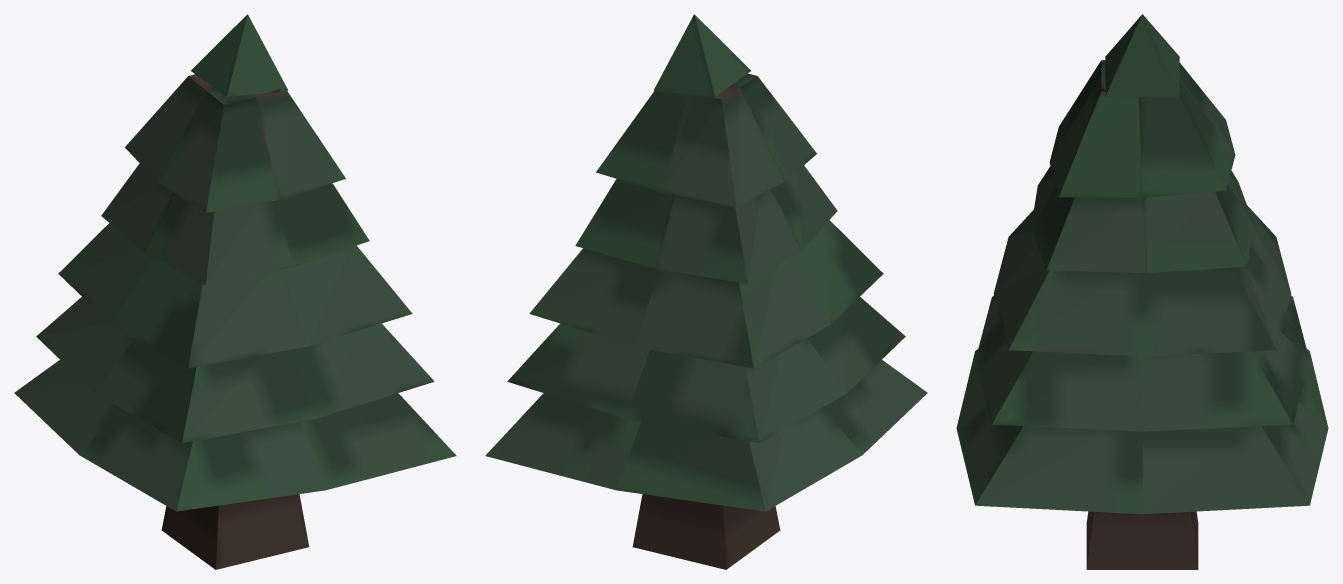
File: tree2.fbx
The picture shows the model from 3 angles, left to right: view 1: azimuth 30°, elevation 25°; view 2: azimuth 150°, elevation 25°; view 3: azimuth 270°, elevation 25°; orthographic projection. The views are drawn at different scales.
Parts seen in each view (by area): view 1: pyramid; view 2: pyramid; view 3: pyramid.
Part boxes in pixels (box(x1,y1,x2,y2)): pyramid: box(14, 14, 456, 569); pyramid: box(485, 14, 927, 569); pyramid: box(956, 14, 1328, 569).
Bounding box in the file's own units: 125 × 200 × 125.
Materials: 1 (1 with a texture image).
